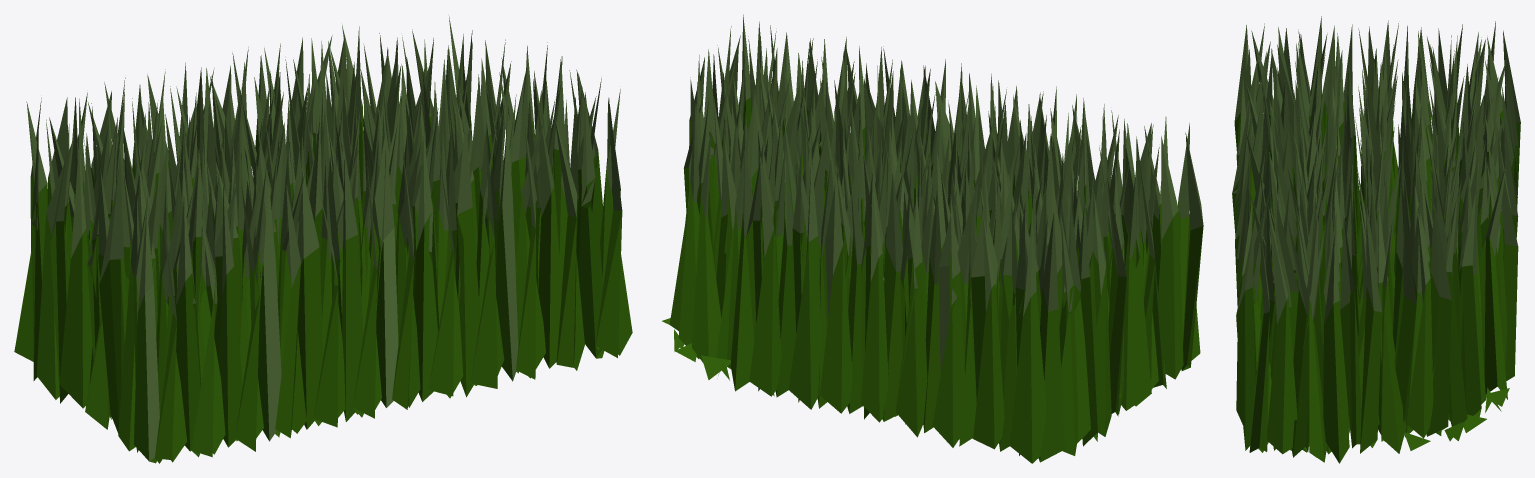
File: GrassCurve1.fbx
3 renders of one model, left to right at view 1: azimuth 30°, elevation 25°; view 2: azimuth 150°, elevation 25°; view 3: azimuth 270°, elevation 25°, orthographic. The views are drawn at different scales.
Parts seen in each view (by area): view 1: Cube; view 2: Cube; view 3: Cube.
Part boxes in pixels (box(x1,y1,x2,y2)): Cube: box(14, 16, 632, 463); Cube: box(662, 14, 1203, 463); Cube: box(1232, 16, 1520, 463).
Bounding box in the file's own units: 2544 × 1364 × 1416.
